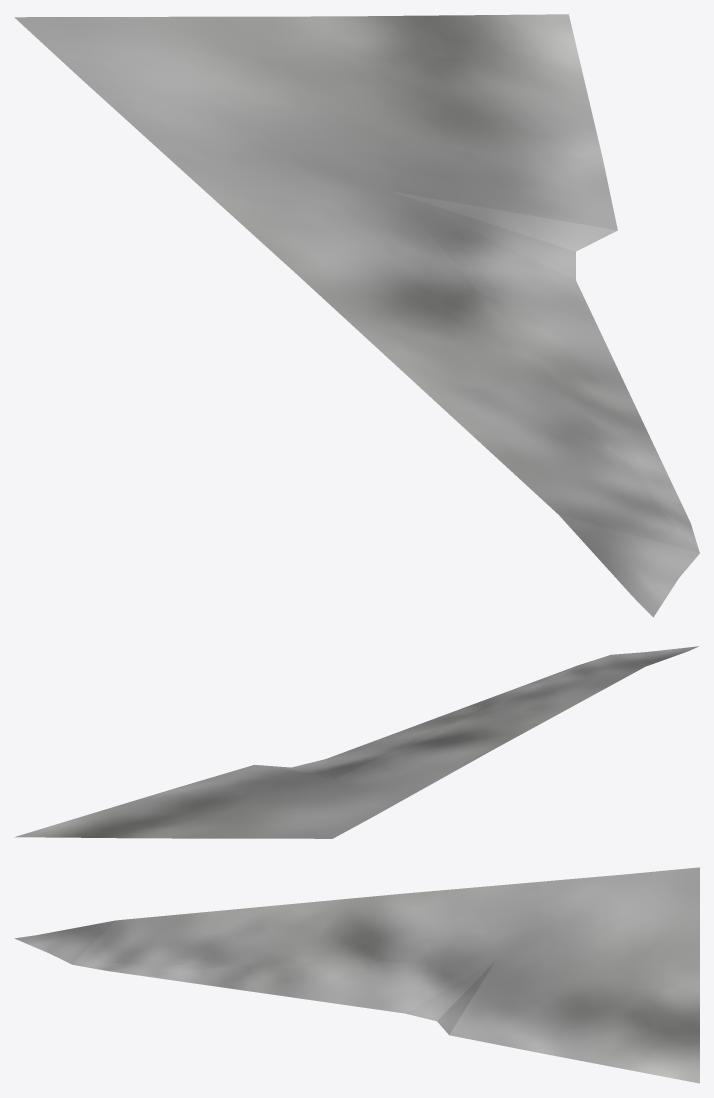
3 views of the same model, one above another, from view 1: azimuth 30°, elevation 25°; view 2: azimuth 150°, elevation 25°; view 3: azimuth 270°, elevation 25° (orthographic). The views are drawn at different scales.
Size of the model in its own units: 0.1584 by 0.0361 by 0.3162.
1 material, 1 textured.
